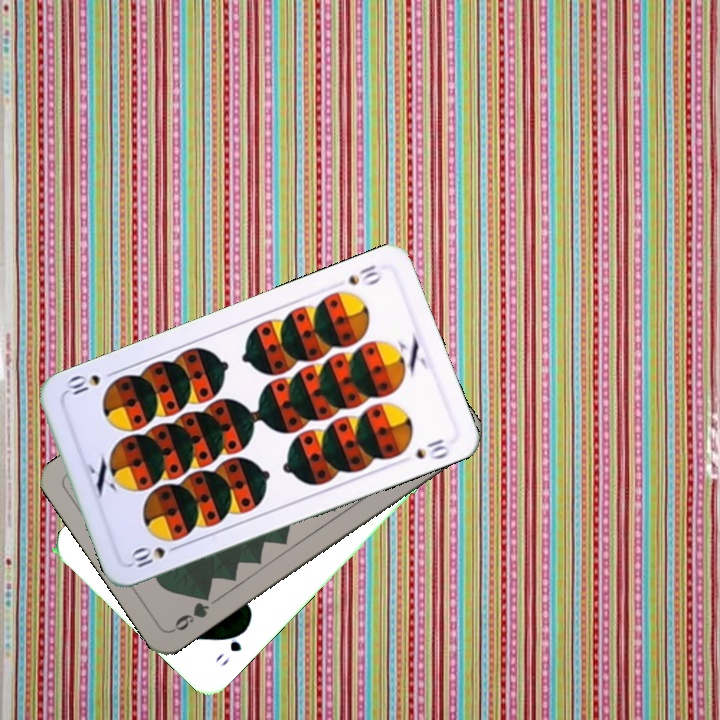G9: (168, 587, 213, 635)
GO: (211, 622, 251, 669)
S10: (126, 540, 184, 570), (344, 260, 384, 288)
